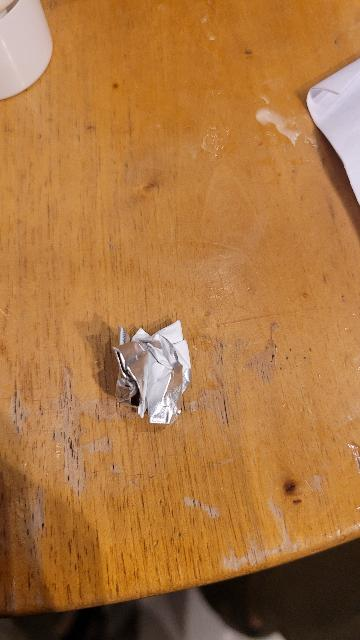Plastik: (106, 308, 192, 429)
